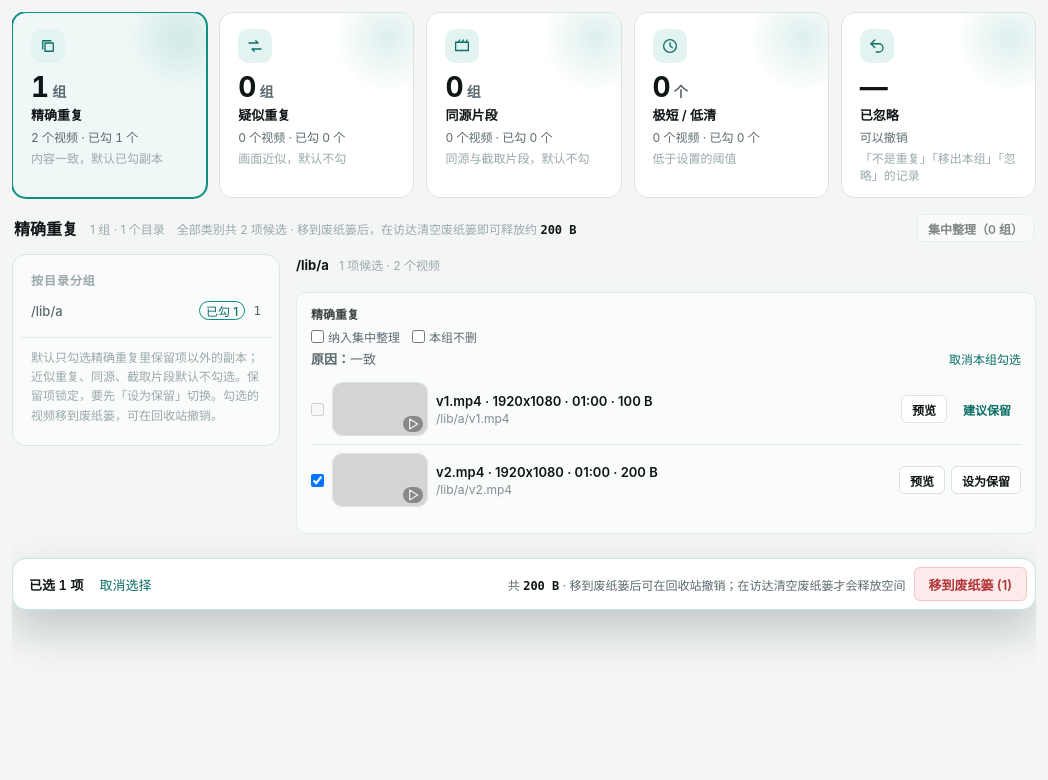
Test: IMG-05 统一的勾选与锁定规则 › D-PC49「已忽略」页签下不能移到废纸篓
Click the tab with test id "cleanup-dismissed-tab" at (938, 105), box [841,12,1036,198]
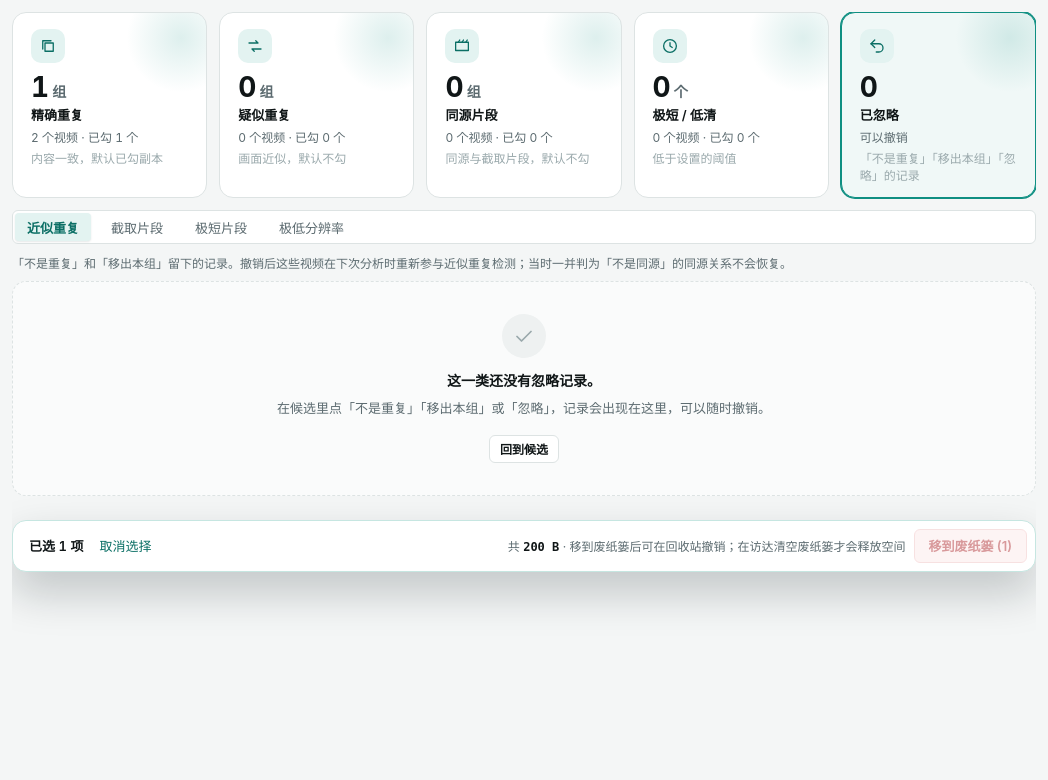
Expected: the button with test id "cleanup-trash-selected" is disabled, [914,529,1027,563]
